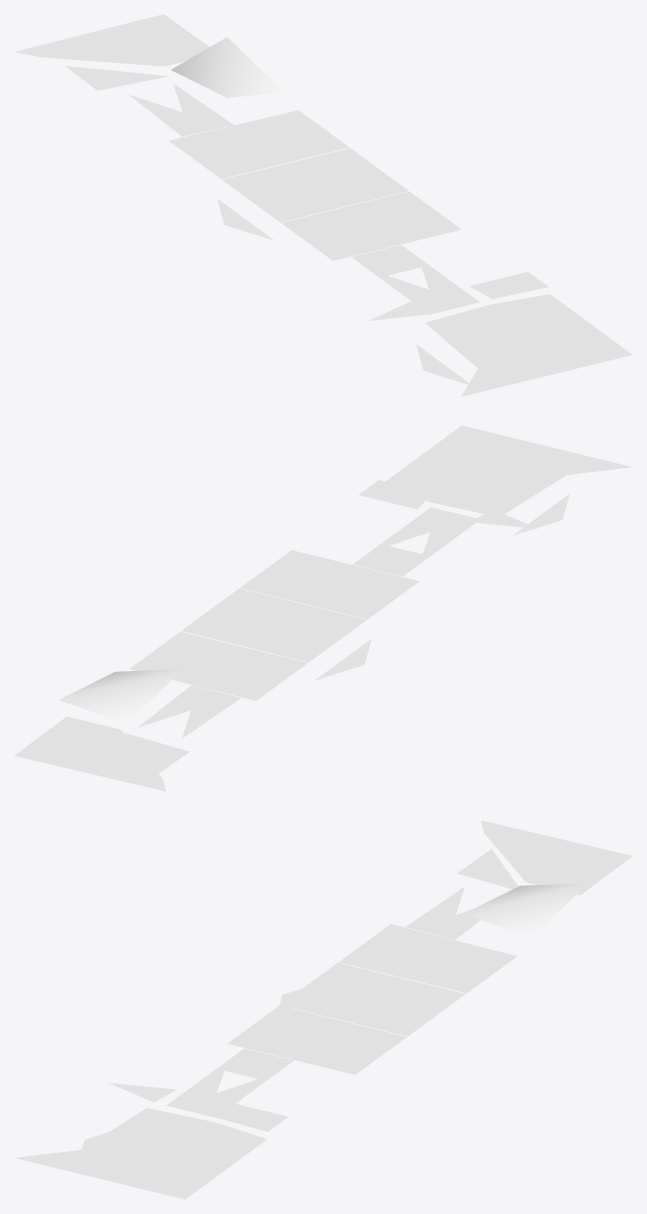
3 views of the same model, one above another, from view 1: azimuth 30°, elevation 25°; view 2: azimuth 150°, elevation 25°; view 3: azimuth 330°, elevation 25° (orthographic).
Size of the model in its own units: 2.31 by 0.4972 by 10.71.
1 material, 1 textured.
